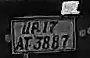1: (40, 21, 49, 34)
3: (33, 34, 43, 51)
7: (60, 33, 71, 50), (47, 21, 60, 35)
8: (50, 34, 62, 50), (40, 35, 51, 51)
A: (15, 37, 25, 52)
P: (30, 22, 41, 37)
T: (23, 34, 32, 51)
U: (21, 21, 31, 35)
